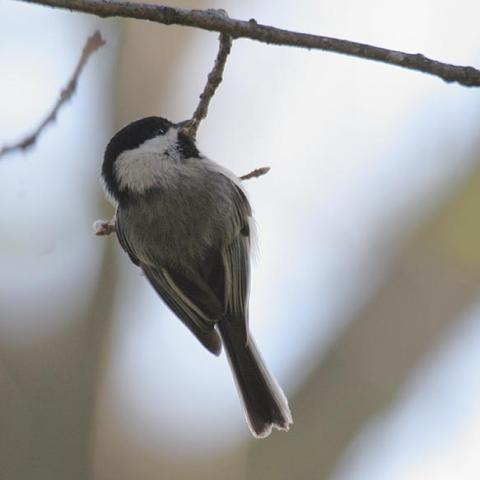bird: (92, 112, 295, 439)
